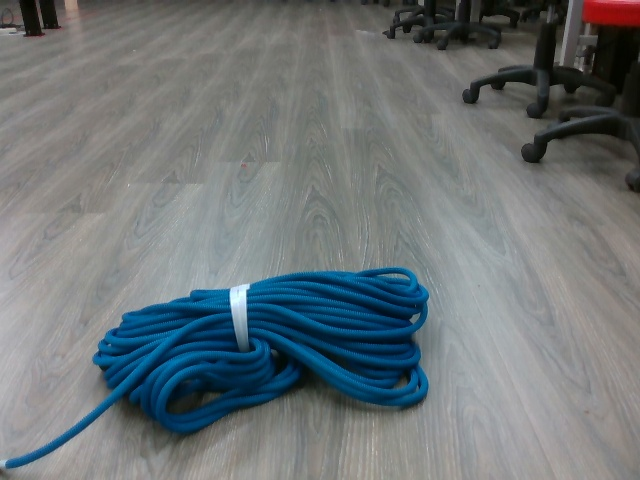rope: (91, 260, 433, 434)
